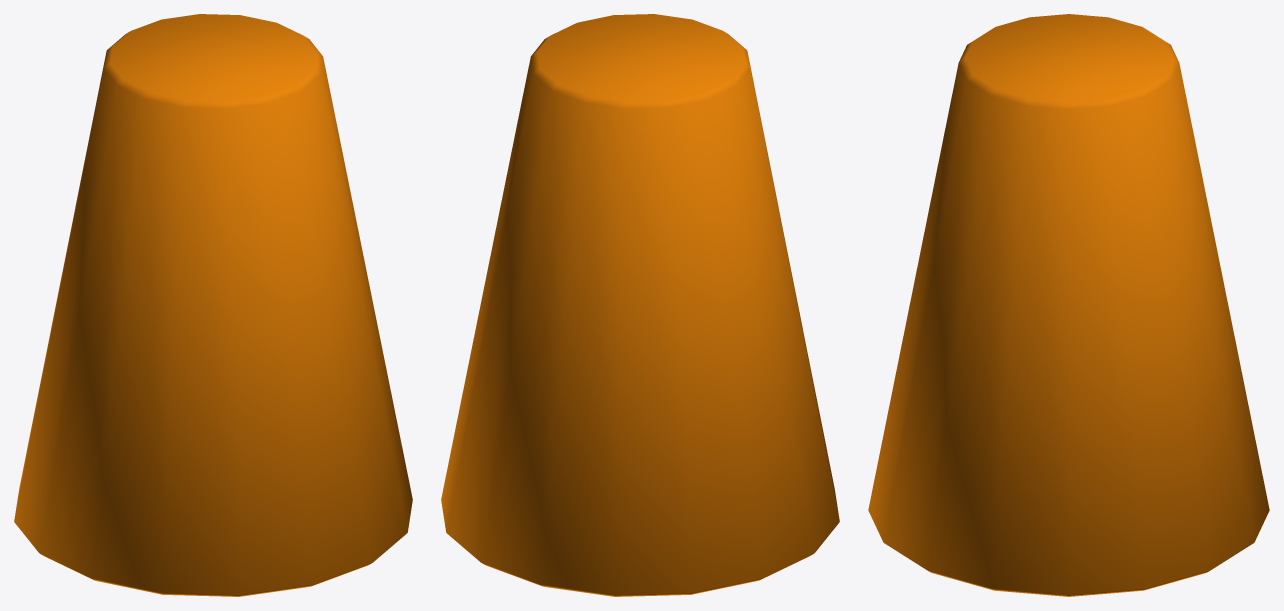
Rendered from Copo.fbx.
3 views of the same model, side by side, from view 1: azimuth 30°, elevation 25°; view 2: azimuth 150°, elevation 25°; view 3: azimuth 270°, elevation 25° (orthographic).
Parts seen in each view (by area): view 1: Cylinder.001; view 2: Cylinder.001; view 3: Cylinder.001.
Part boxes in pixels (bbox=[...]): Cylinder.001: bbox=[14, 14, 412, 596]; Cylinder.001: bbox=[441, 14, 839, 596]; Cylinder.001: bbox=[868, 14, 1269, 596].
Bounding box in the file's own units: 187 × 235 × 187.
